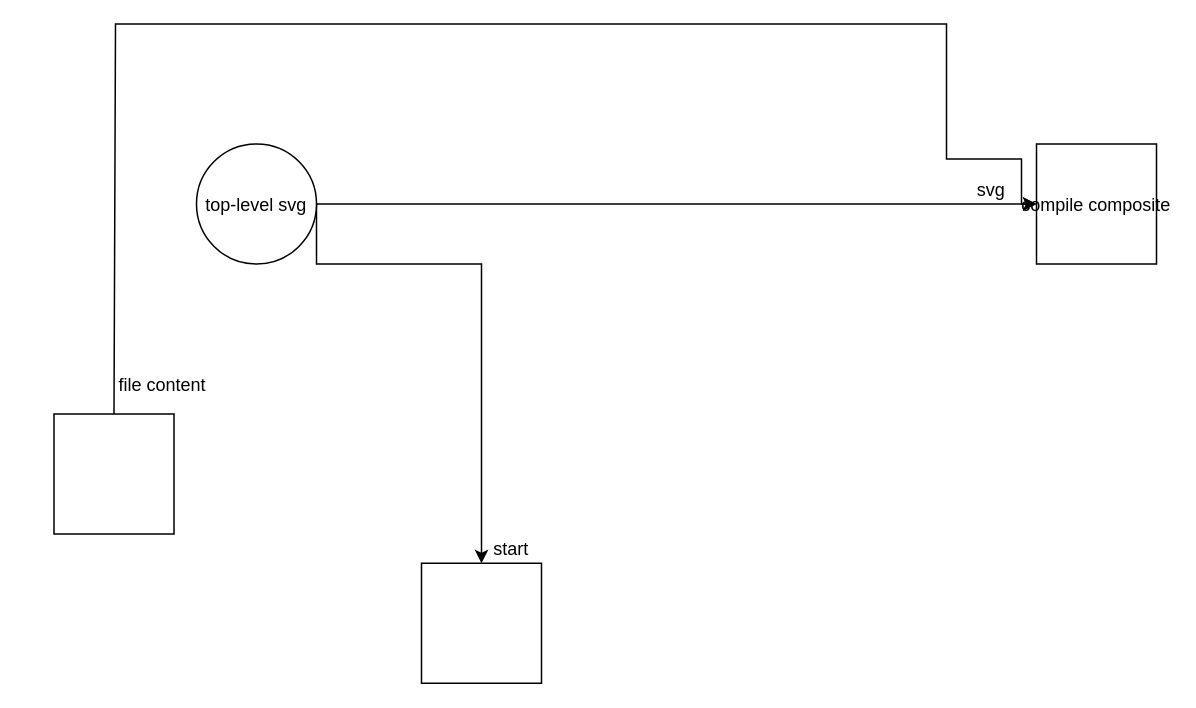
Some shapes in this 1196 by 708 pixel diagram are drawn without their labels. Each missing label, with the centre of its shape:
"get file content in repo" belongs at point 113,473.
"iterator" belongs at point 481,622.
